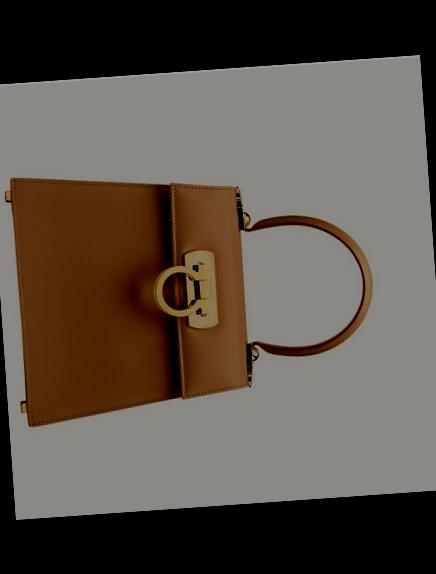FERRAGAMO: (145, 250, 221, 338)
